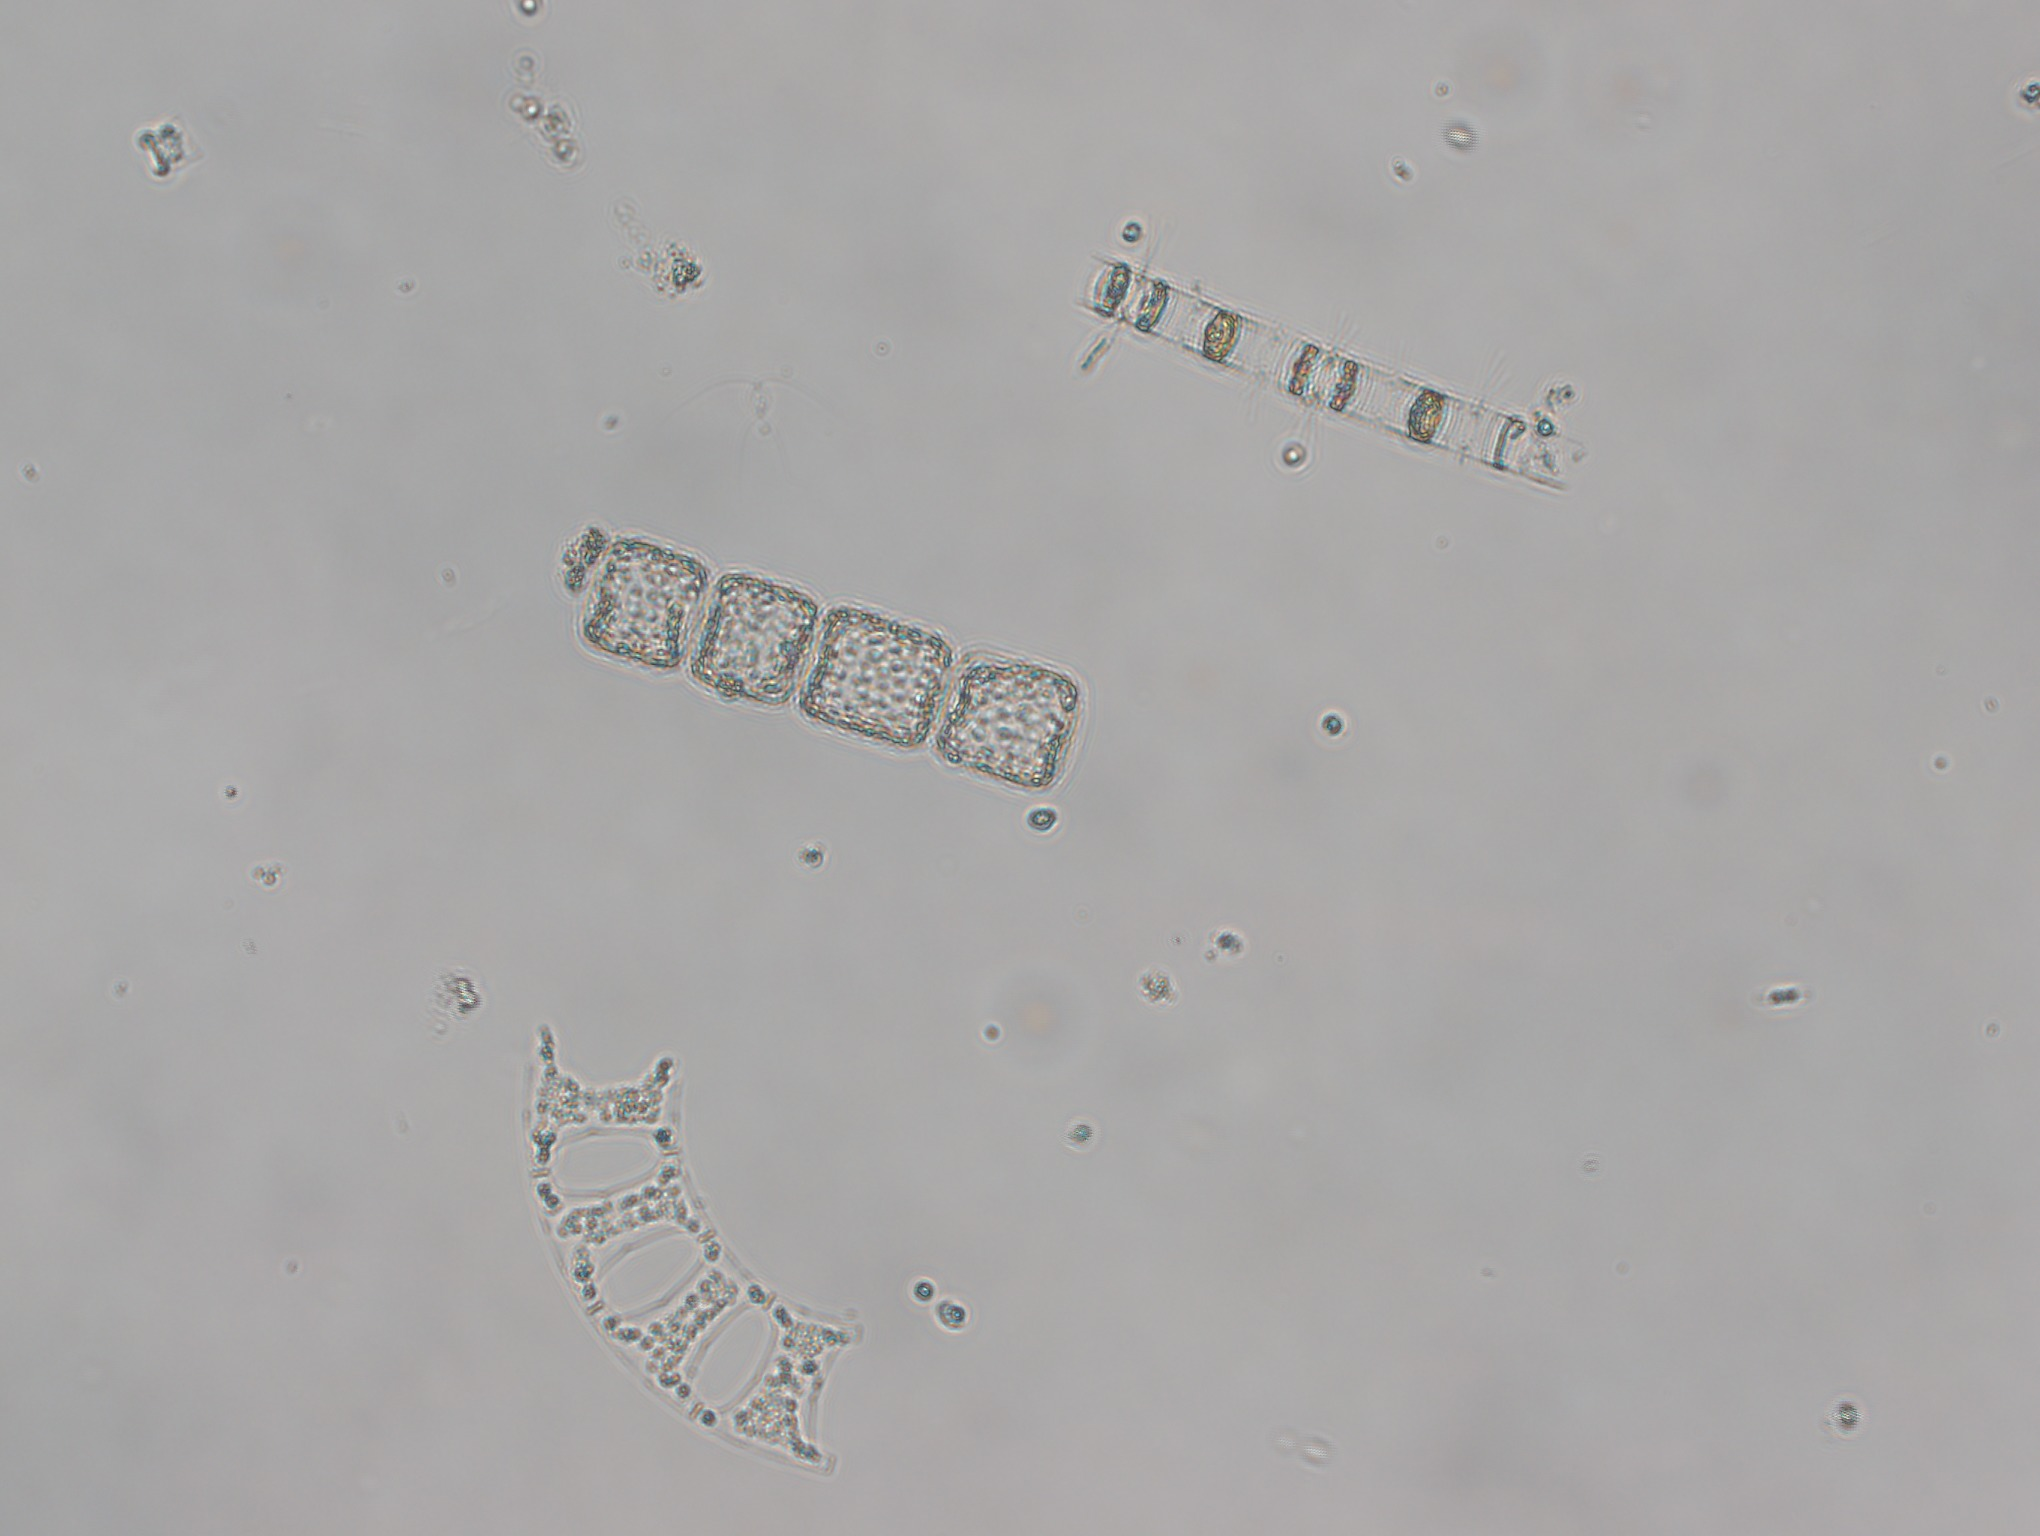chaetoceros: (1063, 215, 1601, 529)
detonula pumila: (555, 503, 1103, 815)
eucampia: (519, 1031, 866, 1476)
